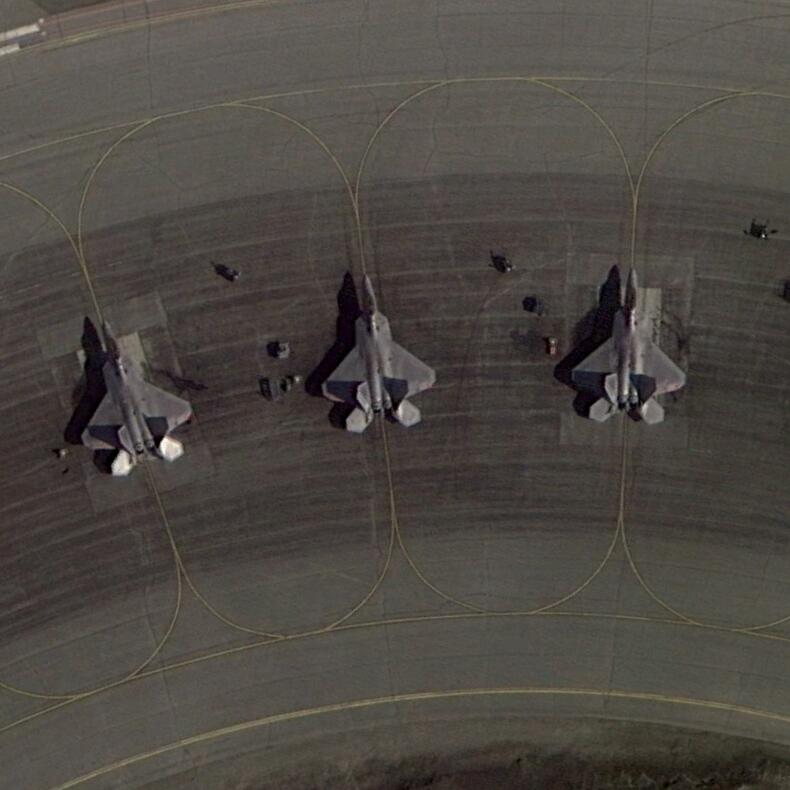A15: (316, 270, 439, 435), (566, 264, 689, 427), (71, 317, 195, 477)
